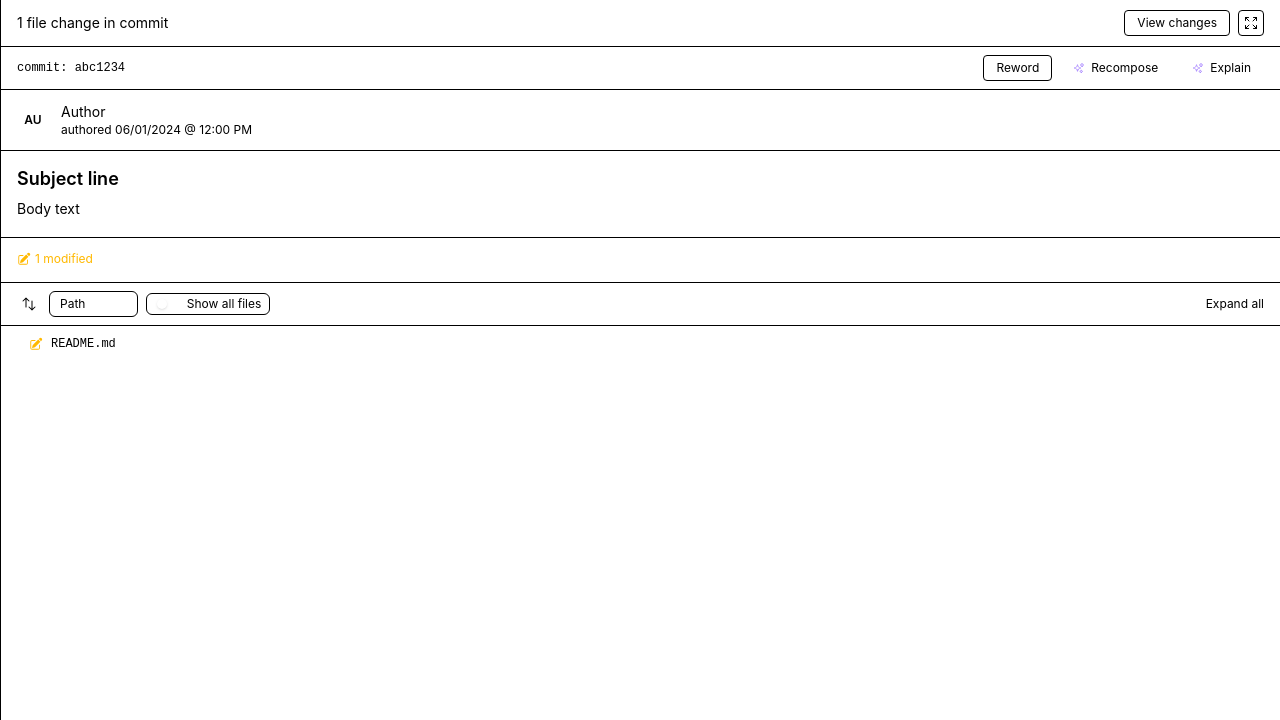
Test case: CommitPreview › recomposes commit message with AI and opens reword modal with draft
Click the button "Recompose" at (1116, 68), box [1060,55,1171,81]
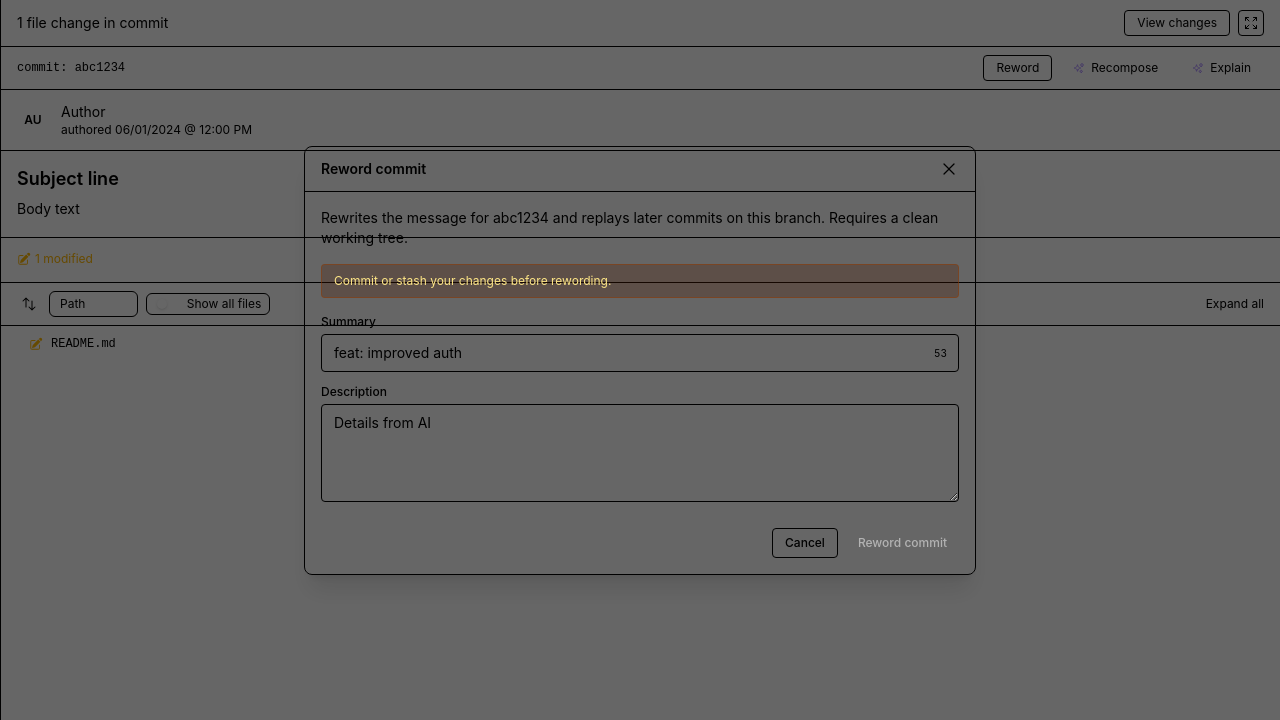
Now the dialog is shown, box [304,146,976,574]
Now the field showing "feat: improved auth" is shown, box [321,334,959,372]
Now the text box showing "Details from AI" is shown, box [321,404,959,502]
